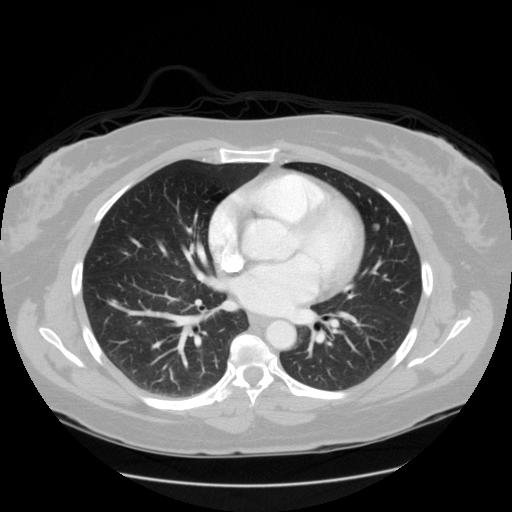nodule: (370, 222, 382, 234)
